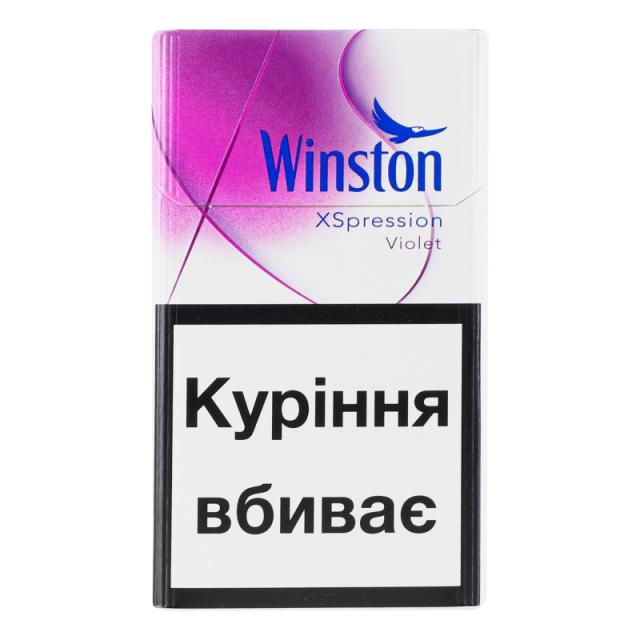winston: (136, 23, 487, 616)
